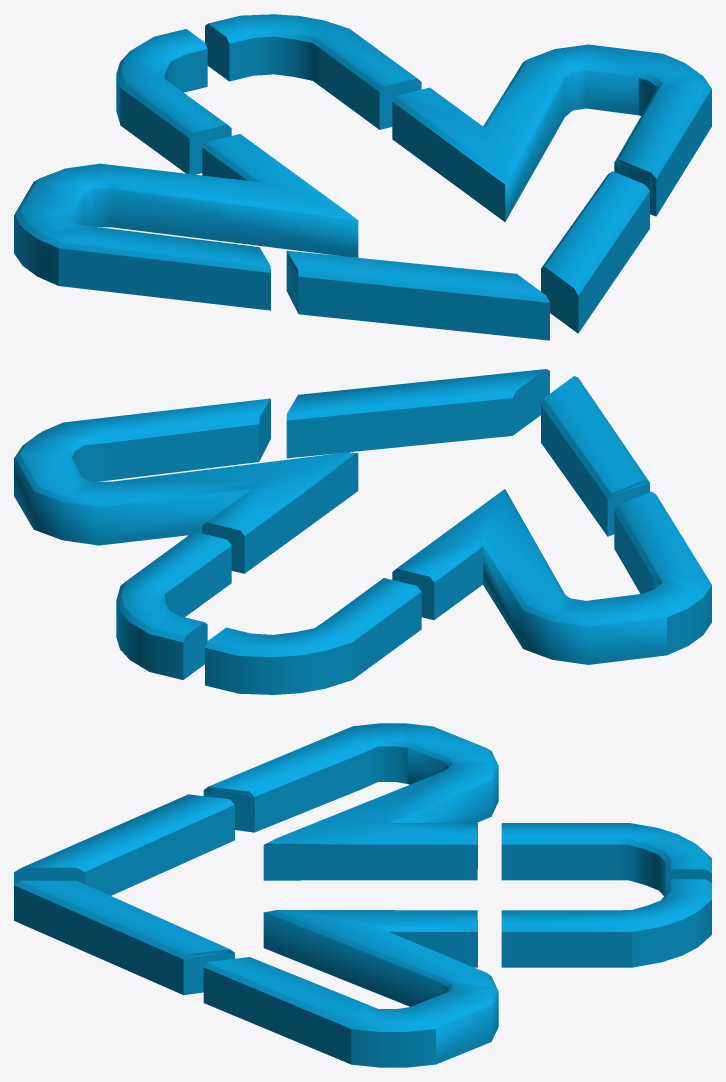
Rendered from jiantou1.FBX.
The picture shows the model from 3 angles, top to bottom: view 1: azimuth 30°, elevation 25°; view 2: azimuth 150°, elevation 25°; view 3: azimuth 270°, elevation 25°; orthographic projection. The views are drawn at different scales.
Parts seen in each view (by area): view 1: Plane084; view 2: Plane084; view 3: Plane084.
Part boxes in pixels (<box>): Plane084: <box>14,14,711,340</box>; Plane084: <box>14,369,711,694</box>; Plane084: <box>14,723,711,1067</box>.
Bounding box in the file's own units: 65.2 × 3.97 × 62.73.
